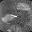people: (1, 13, 17, 24)
